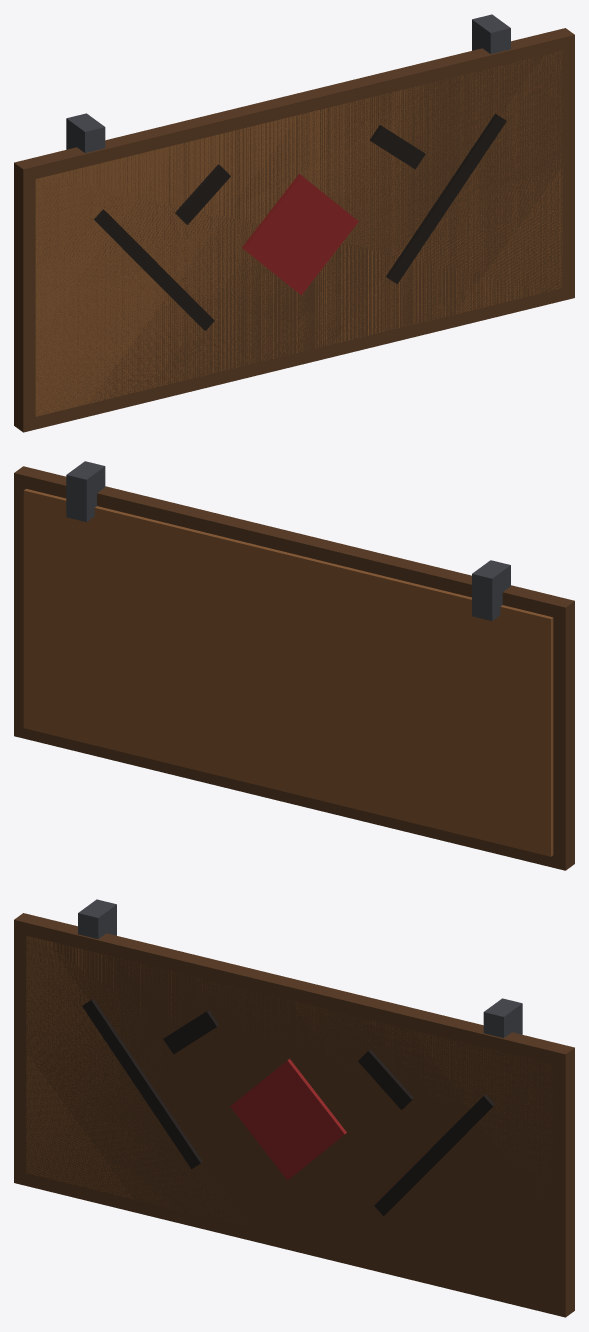
File: mine_sign_board.glb
3 renders of one model, top to bottom at view 1: azimuth 30°, elevation 25°; view 2: azimuth 150°, elevation 25°; view 3: azimuth 330°, elevation 25°, orthographic.
Parts seen in each view (by area): view 1: mine_sign_board; view 2: mine_sign_board; view 3: mine_sign_board.
Part boxes in pixels (left/top/right/bottom): mine_sign_board: left=14, top=14, right=574, bottom=432; mine_sign_board: left=14, top=461, right=574, bottom=870; mine_sign_board: left=14, top=899, right=574, bottom=1317.
Bounding box in the file's own units: 1.36 × 0.67 × 0.095.
